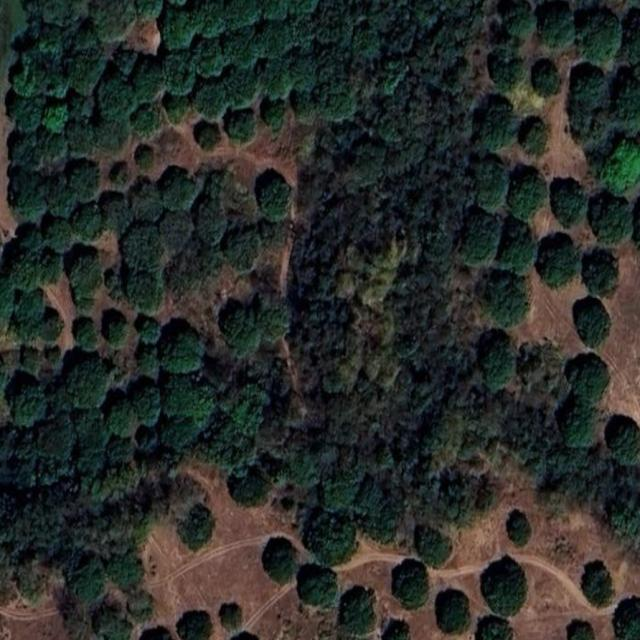Tree: (1, 487, 85, 570), (0, 431, 70, 491), (570, 63, 609, 147), (169, 244, 226, 300), (303, 508, 359, 564), (478, 556, 530, 616), (200, 426, 256, 480), (456, 205, 501, 268), (586, 190, 632, 251), (159, 368, 210, 422), (61, 354, 109, 411), (83, 468, 148, 510), (7, 132, 68, 176), (534, 228, 578, 288), (223, 382, 270, 438), (358, 483, 400, 545), (577, 4, 621, 63), (54, 554, 108, 602), (601, 410, 640, 475), (484, 267, 526, 327), (312, 462, 358, 516), (309, 75, 357, 126), (565, 352, 611, 403), (221, 302, 262, 359), (96, 63, 138, 118), (533, 0, 579, 50), (470, 156, 511, 212), (31, 0, 93, 37), (480, 332, 518, 392), (90, 1, 139, 47), (496, 212, 533, 272), (414, 520, 455, 574), (602, 66, 640, 124), (558, 399, 602, 449), (158, 5, 198, 60), (62, 41, 105, 92), (121, 222, 166, 270), (477, 96, 520, 146), (164, 324, 206, 375), (8, 168, 49, 220), (602, 134, 640, 190), (5, 87, 46, 138), (31, 413, 72, 464), (349, 142, 388, 195), (333, 584, 376, 632), (122, 264, 162, 314), (391, 554, 428, 608), (583, 244, 619, 299), (189, 35, 227, 87), (4, 241, 42, 293), (507, 166, 546, 216), (260, 535, 298, 586), (296, 562, 336, 610), (250, 351, 292, 396), (223, 220, 260, 271), (257, 172, 296, 220), (180, 500, 218, 549), (575, 298, 612, 348), (69, 248, 102, 304), (278, 49, 320, 92), (106, 545, 146, 590), (195, 197, 230, 248), (488, 46, 525, 94), (218, 28, 259, 71), (254, 15, 292, 60), (158, 207, 195, 253), (552, 176, 586, 226), (8, 381, 47, 424), (131, 374, 162, 428), (444, 472, 474, 527), (162, 168, 201, 210), (376, 58, 410, 106), (159, 416, 208, 449), (248, 56, 289, 95), (93, 112, 132, 153), (192, 0, 228, 44), (128, 180, 165, 222), (435, 589, 472, 631), (288, 444, 321, 491), (65, 158, 101, 201), (101, 191, 133, 239), (234, 470, 274, 508), (49, 169, 80, 218), (582, 560, 615, 606), (224, 64, 260, 106), (70, 411, 106, 453), (171, 607, 216, 640), (222, 107, 261, 145), (91, 604, 132, 640), (163, 49, 195, 95), (131, 54, 161, 103), (13, 52, 47, 95), (106, 435, 145, 472), (38, 57, 72, 99), (28, 301, 62, 343), (31, 26, 67, 65), (256, 300, 288, 343), (104, 388, 135, 432), (502, 1, 536, 41), (73, 444, 107, 484), (222, 1, 263, 34), (617, 4, 640, 62), (12, 288, 48, 325), (257, 92, 287, 136), (611, 594, 639, 640), (73, 202, 105, 242), (197, 77, 228, 117), (35, 251, 66, 291), (518, 112, 547, 154), (251, 0, 294, 28), (377, 104, 405, 147), (286, 15, 318, 52), (354, 25, 383, 64), (506, 508, 534, 548), (474, 612, 514, 640), (69, 118, 97, 157), (534, 58, 560, 100), (40, 101, 72, 135), (69, 90, 100, 124), (288, 85, 315, 124), (16, 218, 46, 252), (17, 344, 47, 376), (43, 220, 72, 253), (104, 265, 127, 304), (379, 614, 413, 640), (160, 95, 192, 122), (132, 104, 162, 132), (138, 314, 164, 346), (105, 312, 128, 346), (221, 600, 244, 634), (564, 616, 596, 640), (195, 121, 222, 149), (374, 444, 398, 475), (131, 0, 160, 25), (138, 619, 170, 640), (136, 347, 159, 376), (76, 322, 98, 349), (133, 144, 154, 170), (117, 47, 137, 74), (290, 0, 315, 18), (111, 161, 130, 184)
